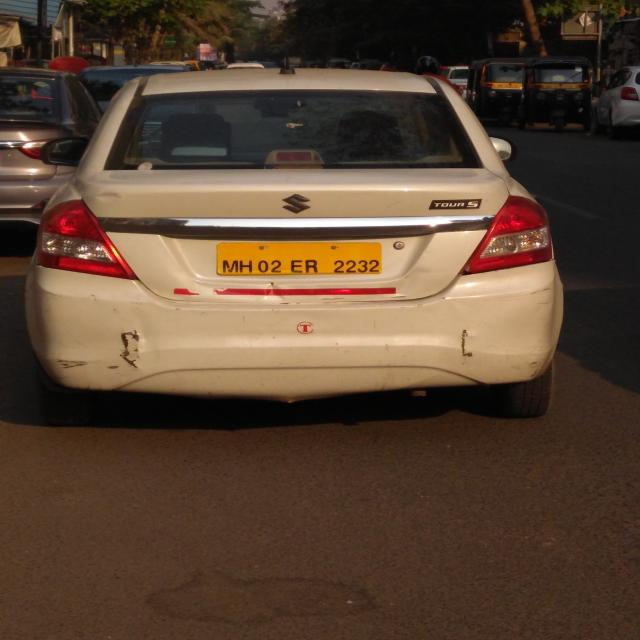Number-Plate: (217, 240, 386, 278)
